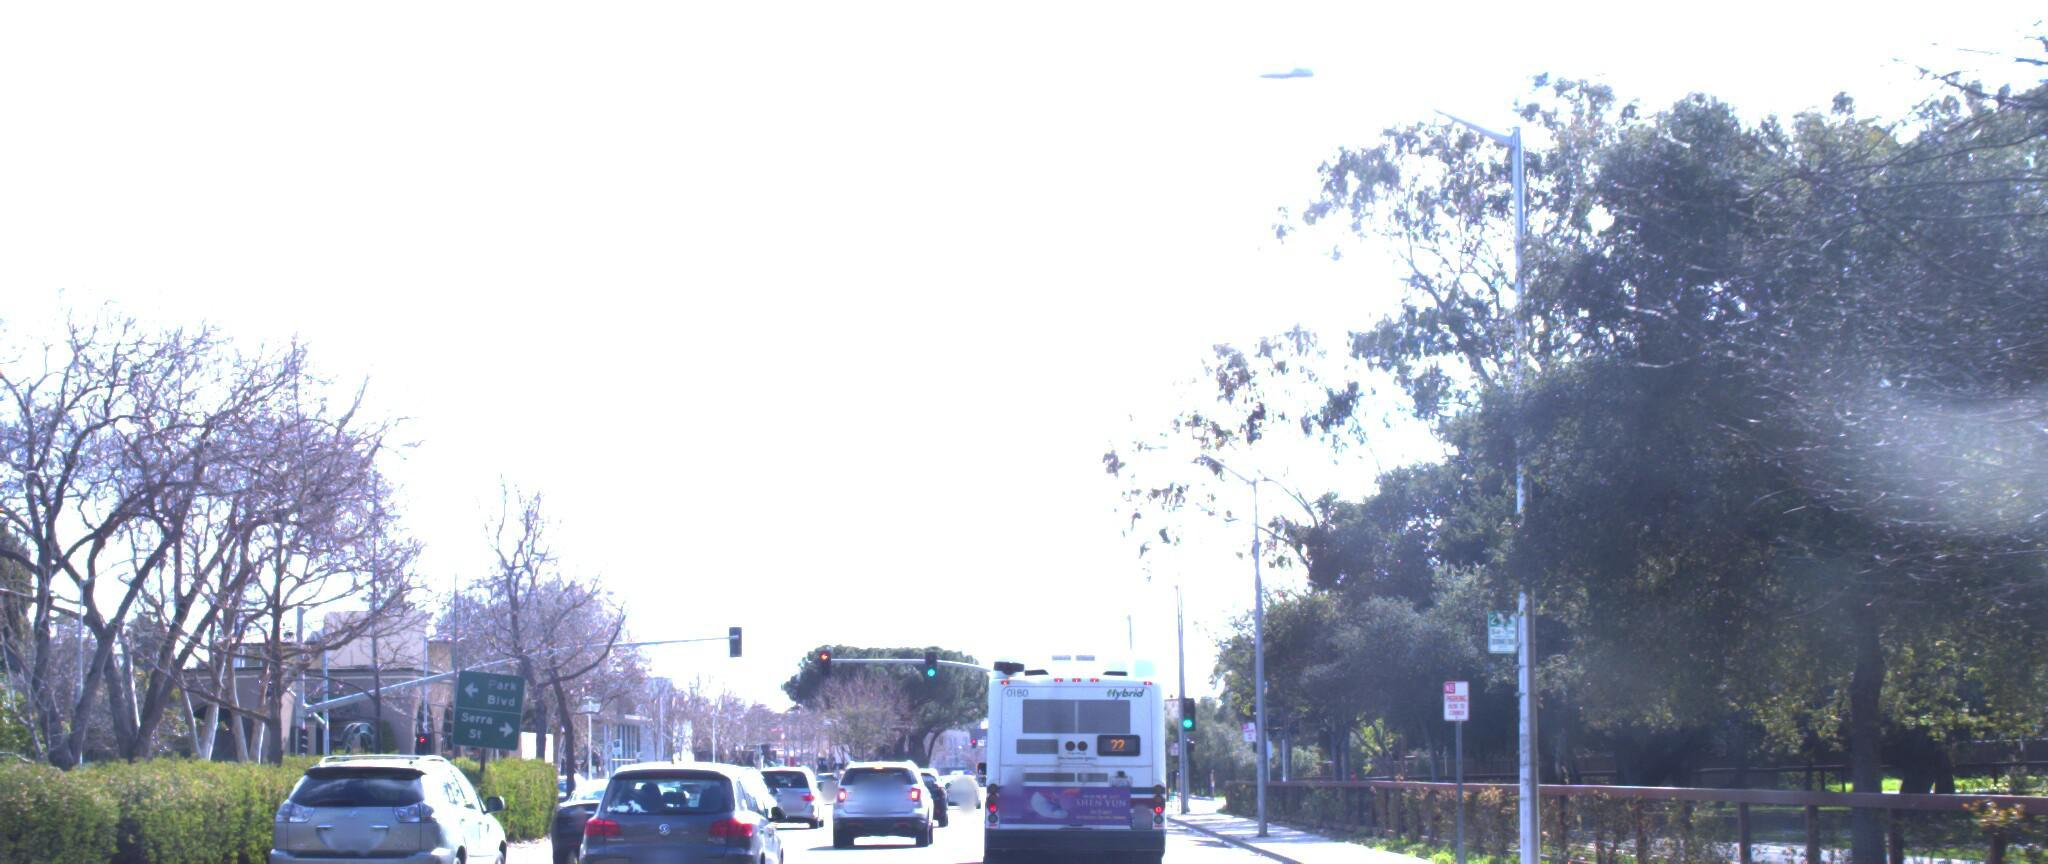bus: (970, 640, 1179, 864)
car: (247, 754, 509, 864), (573, 773, 785, 864), (831, 767, 934, 857), (0, 810, 167, 864)
